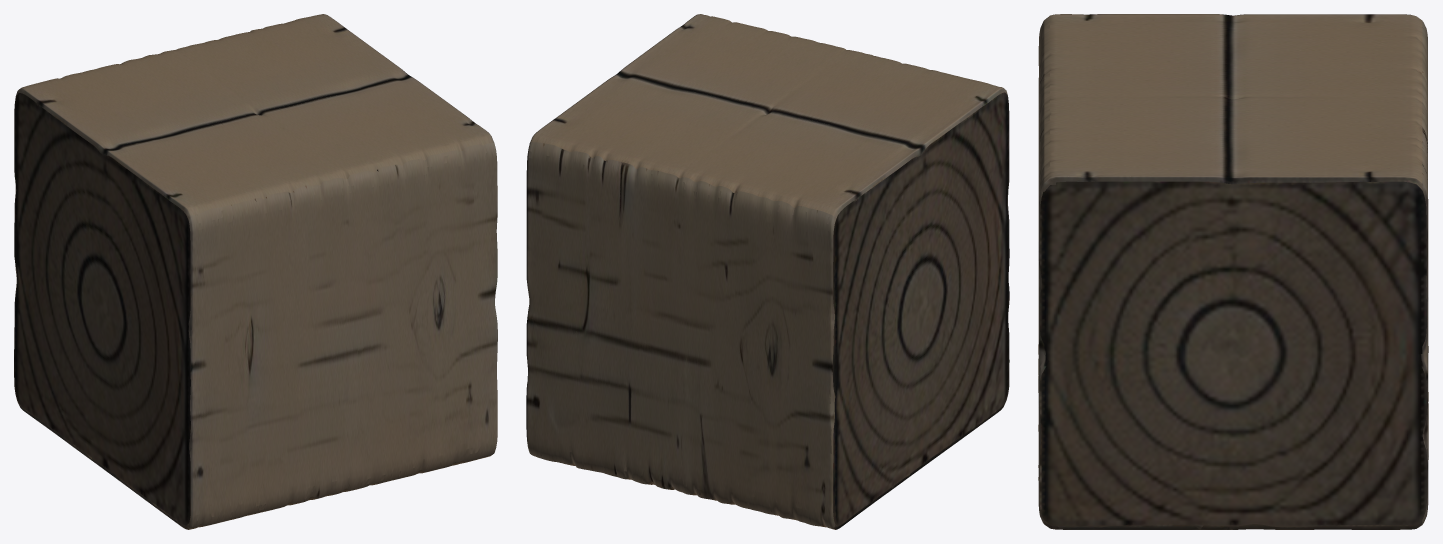
File: beam-timber.glb
3 renders of one model, left to right at view 1: azimuth 30°, elevation 25°; view 2: azimuth 150°, elevation 25°; view 3: azimuth 270°, elevation 25°, orthographic. The views are drawn at different scales.
Visible parts, largest first — view 1: tmpd53dmxgs.ply; view 2: tmpd53dmxgs.ply; view 3: tmpd53dmxgs.ply.
Boxes of the visible parts, x1,y1,x2,y2 form: tmpd53dmxgs.ply: (14,14,497,529); tmpd53dmxgs.ply: (526,14,1009,529); tmpd53dmxgs.ply: (1038,14,1428,529).
Size of the model in its own units: 1 by 1 by 1.
1 material, 1 textured.
